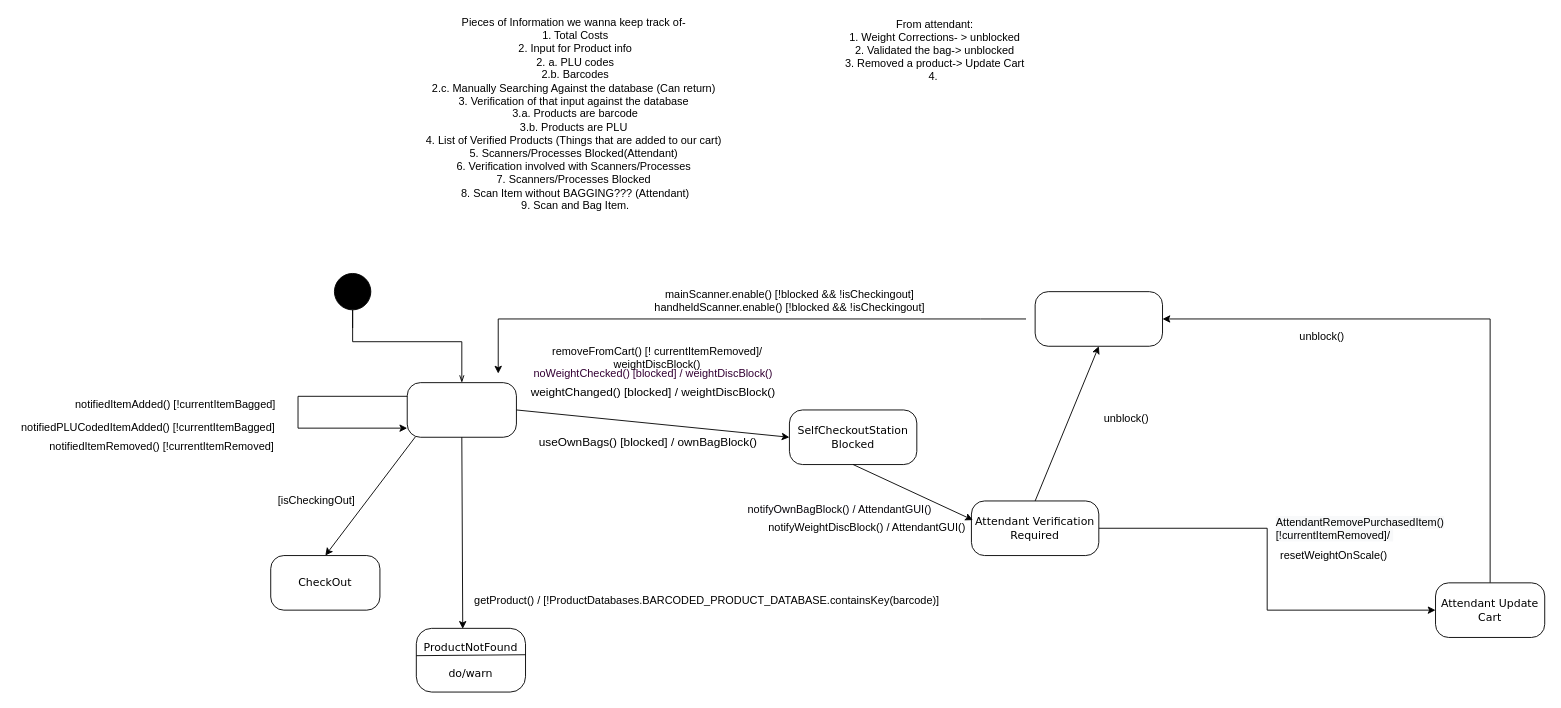
Image size: 1561x708. Some labels were removed from this diagram. The centre of each missing label's shape, as x and y in pixels:
Inputting Product Info: the point at 461,409
SelfCheckoutStation Unblocked: the point at 1098,318
